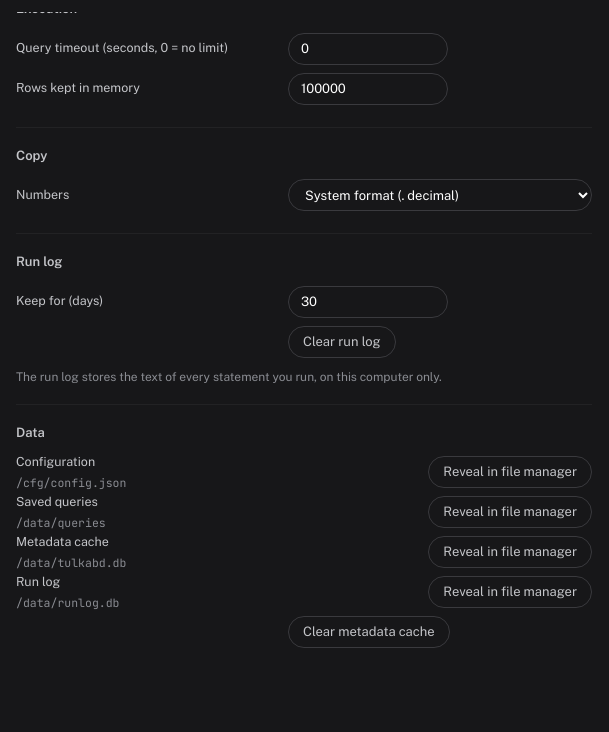
Scenario: a failed Reveal shows an error
The image size is (609, 732).
(page scrolled)
Click the button "Reveal in file manager" in the row of "/cfg/config.json" at (510, 472), box [428,456,592,488]
(page scrolled)
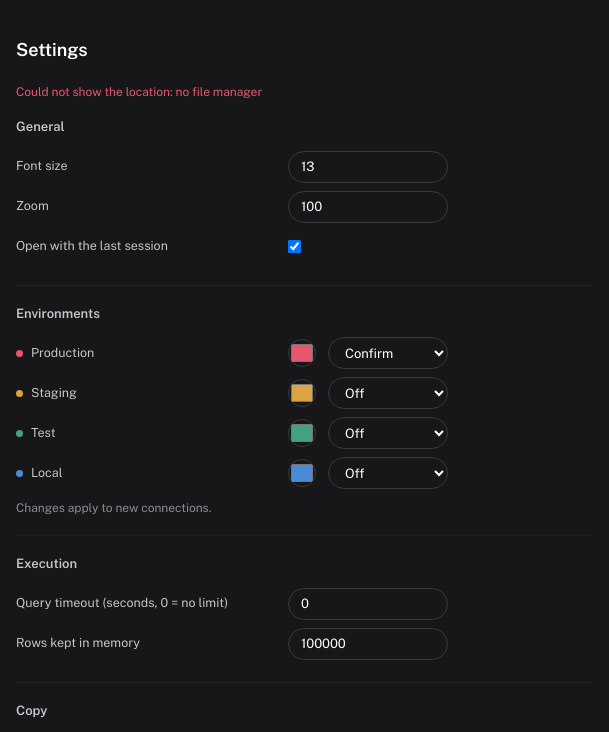
Now the message "Could not show the location: no file manager" is shown, box [16,85,262,99]
